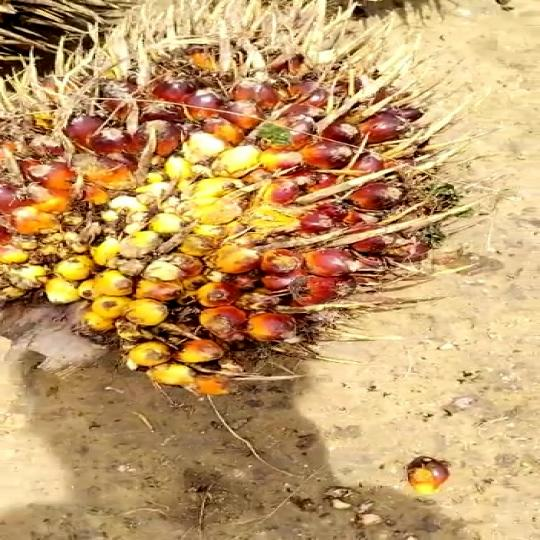masak: (0, 22, 473, 414)
